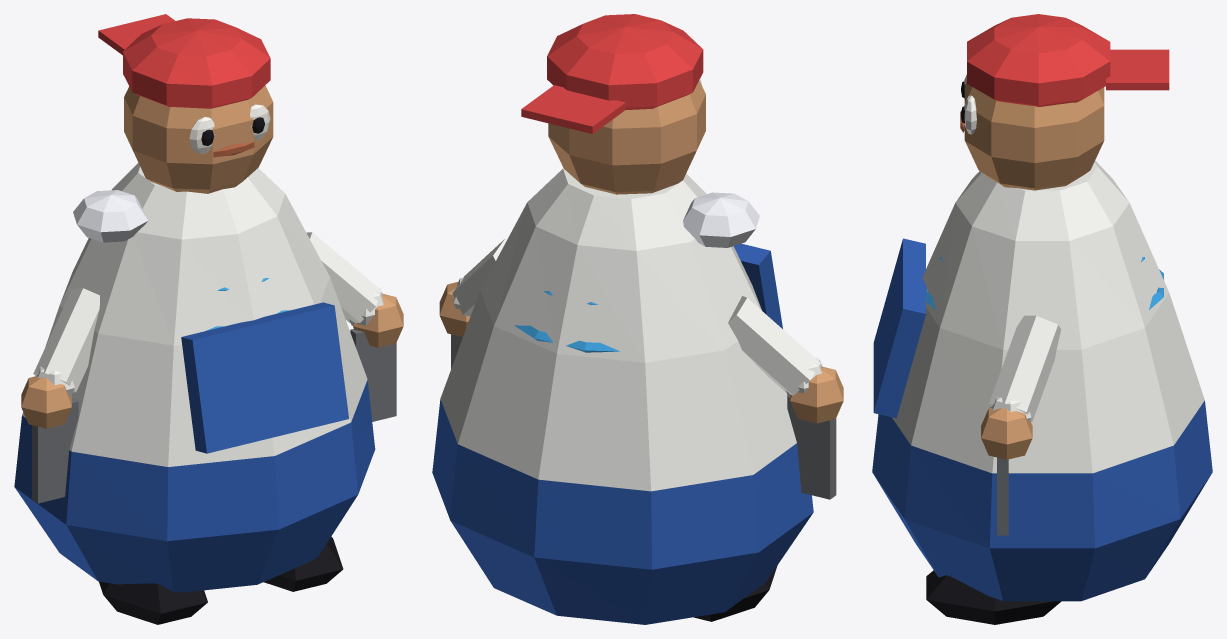
File: npc_pompita.glb
The picture shows the model from 3 angles, left to right: view 1: azimuth 30°, elevation 25°; view 2: azimuth 150°, elevation 25°; view 3: azimuth 270°, elevation 25°; orthographic projection. The views are drawn at different scales.
Visible parts, largest first — view 1: body_pompita_overalls, body_pompita_shirt, hat_pompita_cap, head_skin_trigueña, arms_pompita_shirt, rag_pompita_rag, legs_black, arms_skin_trigueña, foam_pompita_foam, face_white; view 2: body_pompita_shirt, body_pompita_overalls, hat_pompita_cap, head_skin_trigueña, arms_pompita_shirt, rag_pompita_rag, foam_pompita_foam, arms_skin_trigueña, legs_black, body_pompita_stripe; view 3: body_pompita_shirt, body_pompita_overalls, hat_pompita_cap, head_skin_trigueña, arms_pompita_shirt, legs_black, arms_skin_trigueña, rag_pompita_rag.
Part boxes in pixels (x1,y1,x2,y2): body_pompita_overalls: (14,302,375,592); body_pompita_shirt: (22,163,367,466); hat_pompita_cap: (98,14,270,108); head_skin_trigueña: (124,85,273,193); arms_pompita_shirt: (33,232,383,397); rag_pompita_rag: (32,329,396,503); legs_black: (99,536,343,624); arms_skin_trigueña: (21,294,403,428); foam_pompita_foam: (73,190,148,242); face_white: (189,104,270,153); body_pompita_shirt: (440,168,796,491); body_pompita_overalls: (432,243,813,624); hat_pompita_cap: (521,14,703,133); head_skin_trigueña: (548,80,705,194); arms_pompita_shirt: (452,238,822,397); rag_pompita_rag: (451,334,836,499); foam_pompita_foam: (683,192,759,247); arms_skin_trigueña: (439,282,843,423); legs_black: (694,566,777,621); body_pompita_stripe: (514,325,620,352); body_pompita_shirt: (892,160,1204,473); body_pompita_overalls: (872,238,1212,601); hat_pompita_cap: (967,14,1169,106); head_skin_trigueña: (964,82,1104,190); arms_pompita_shirt: (989,315,1061,422); legs_black: (926,570,1061,624); arms_skin_trigueña: (981,407,1032,459); rag_pompita_rag: (997,457,1008,535).
Bounding box in the file's own units: 1.13 × 1.55 × 0.86.
